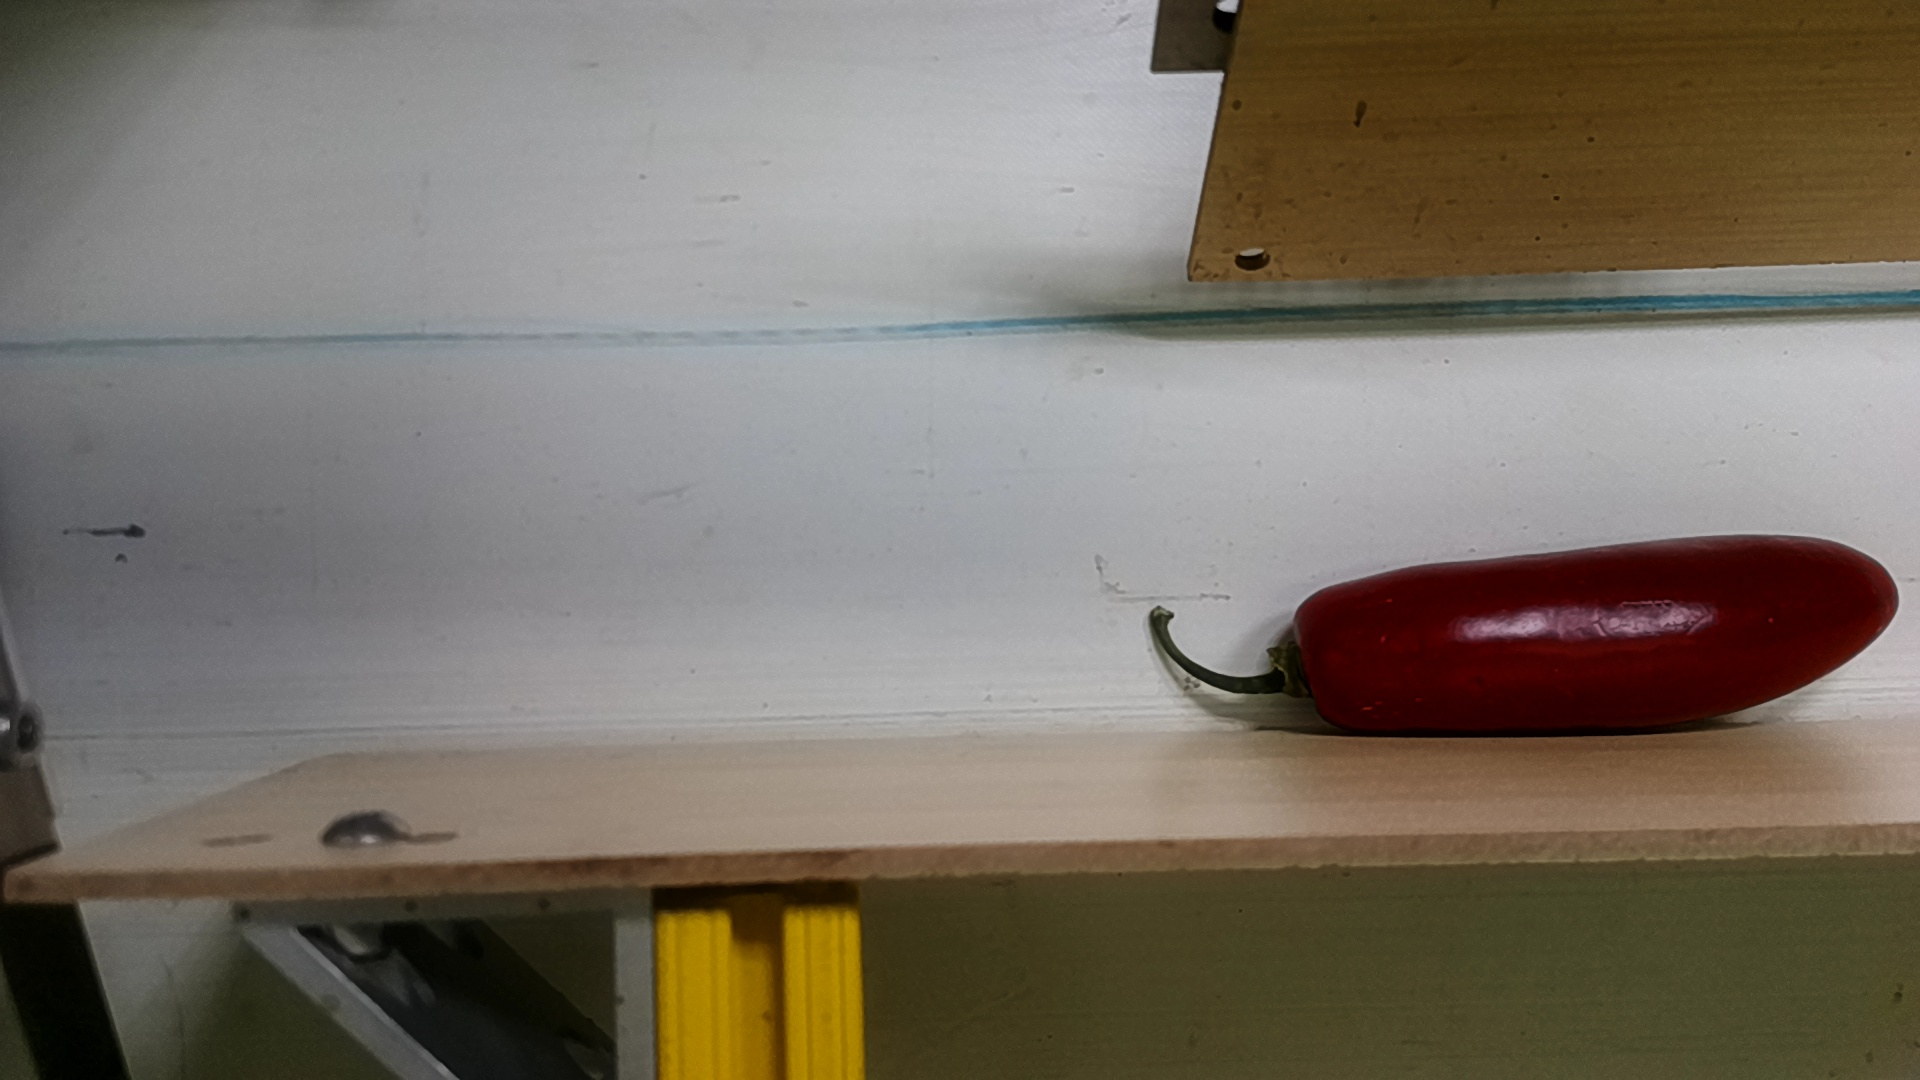Cut Point: (1265, 575, 1367, 737)
